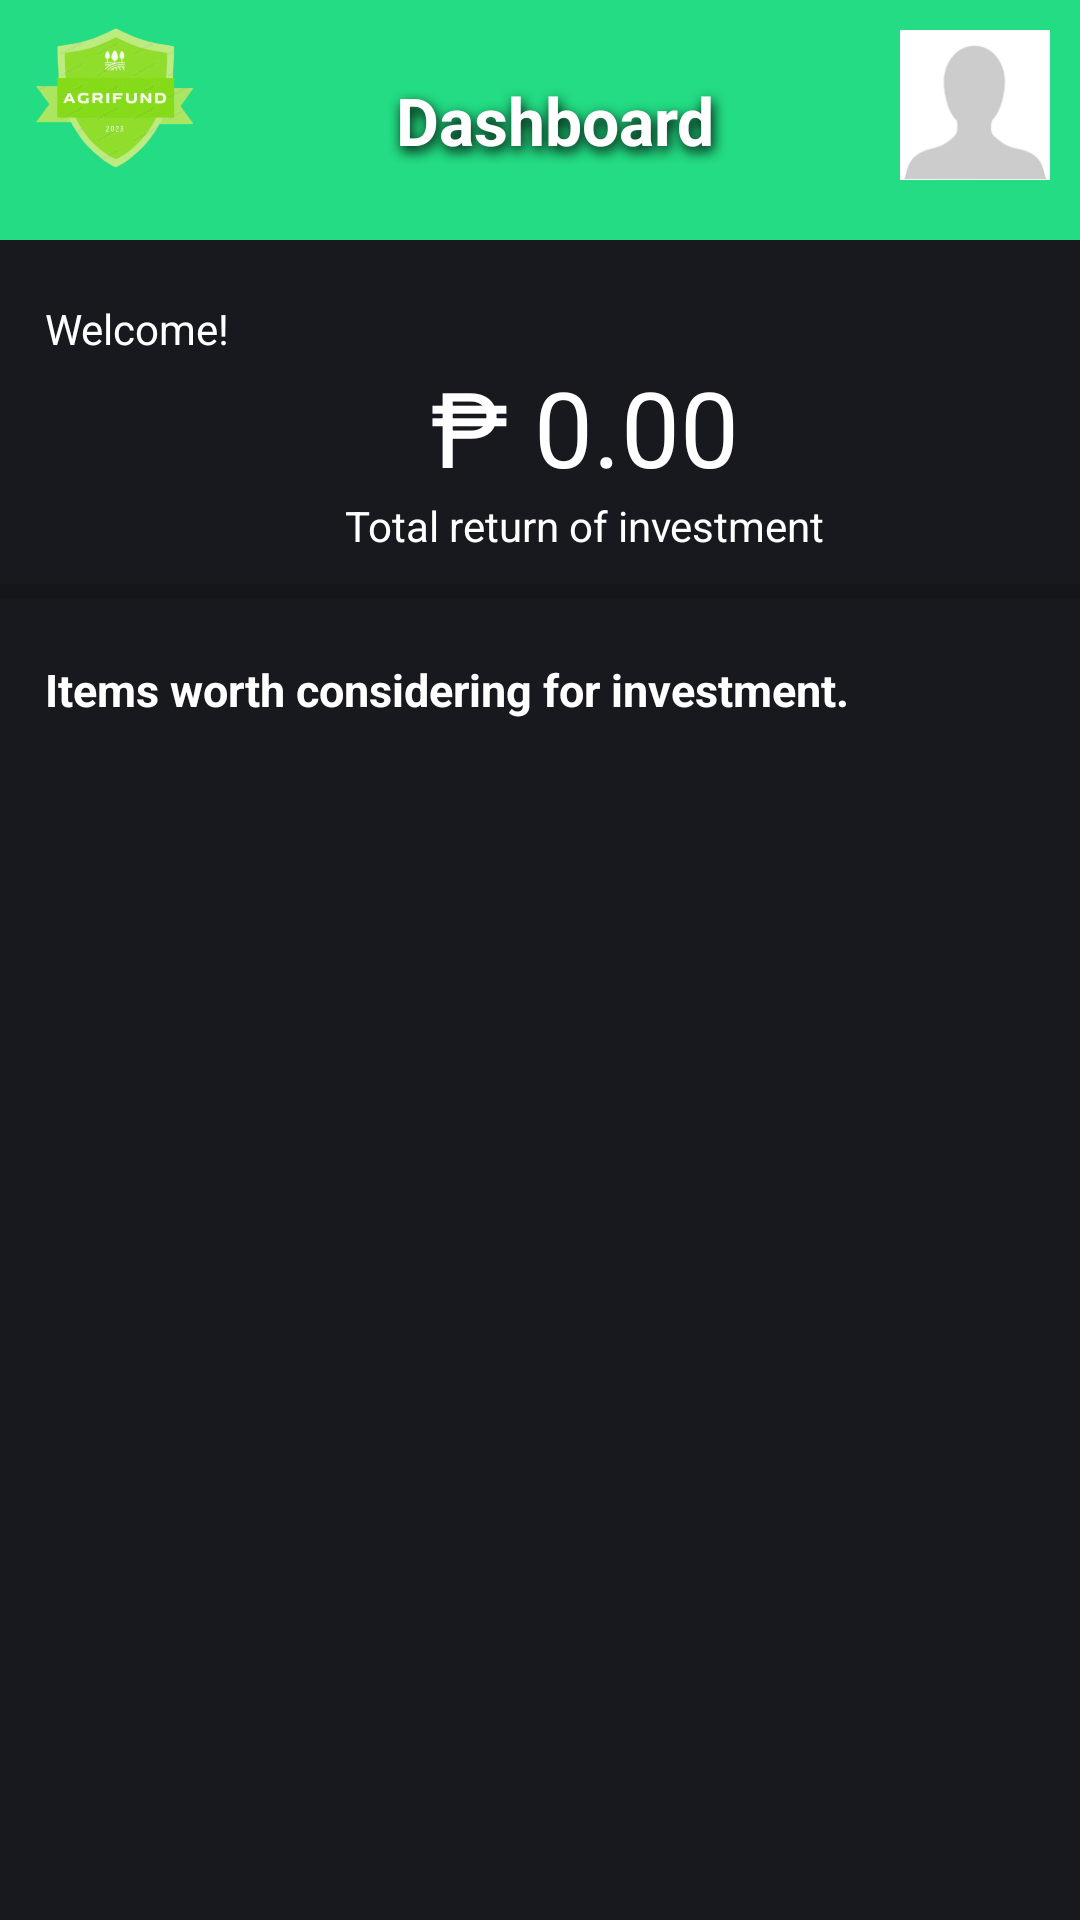

Locate icon controls on the screen. Image size 1080*1920, boxes as region(x1, y1, x2, y2).
profile holder: region(900, 30, 1050, 180)
